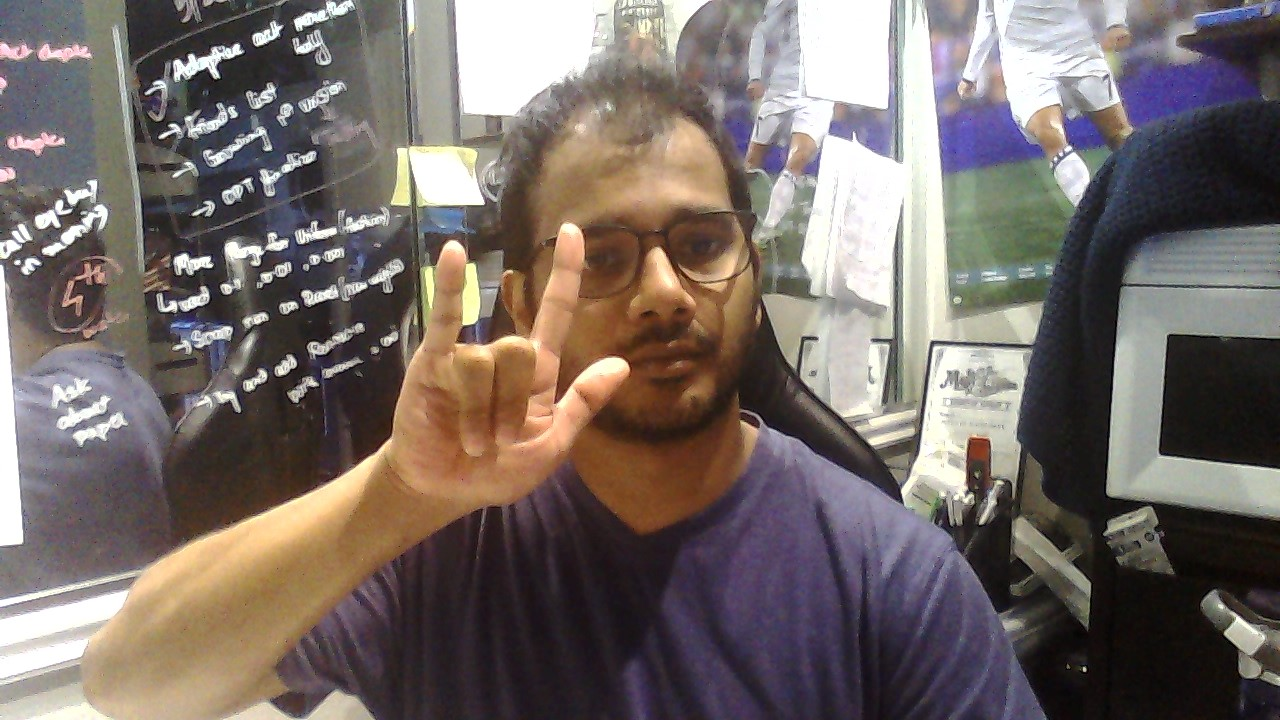ILoveYou: (392, 221, 630, 507)
